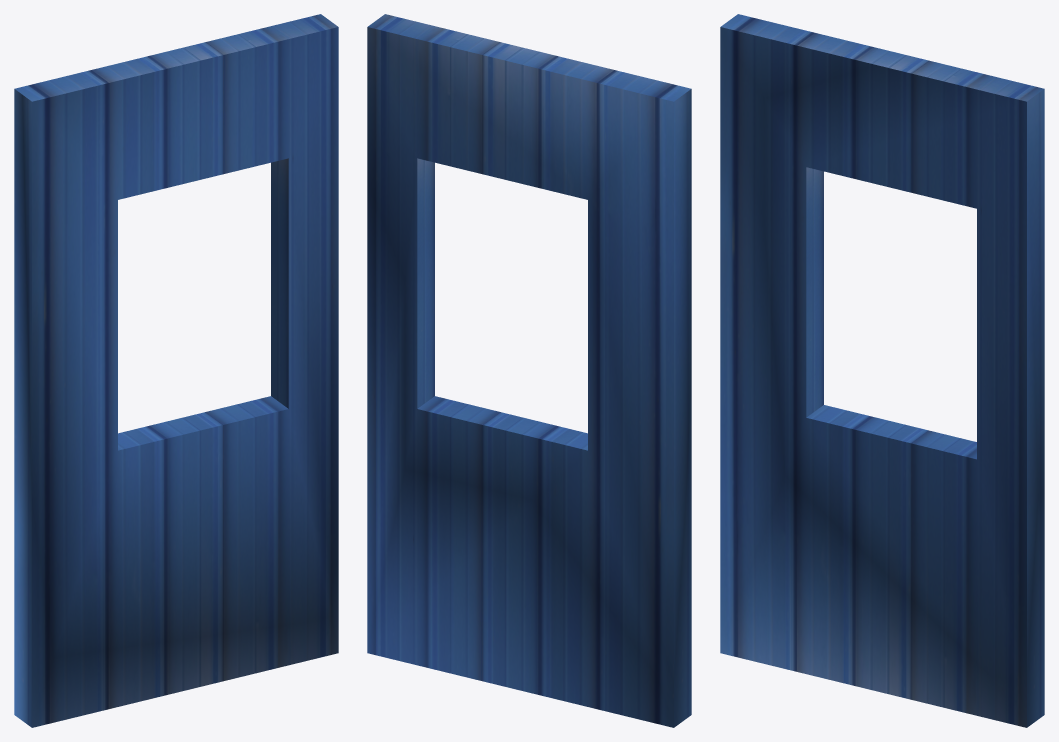
Rendered from camlı dış duvar yeni.fbx.
The picture shows the model from 3 angles, left to right: view 1: azimuth 30°, elevation 25°; view 2: azimuth 150°, elevation 25°; view 3: azimuth 330°, elevation 25°; orthographic projection.
Visible parts, largest first — view 1: Plane.006; view 2: Plane.006; view 3: Plane.006.
Part boxes in pixels (x1,y1,x2,y2): Plane.006: [14, 14, 338, 727]; Plane.006: [367, 14, 691, 727]; Plane.006: [720, 14, 1044, 727].
Size of the model in its own units: 100 by 195 by 10.
Materials: 1 (1 with a texture image).
